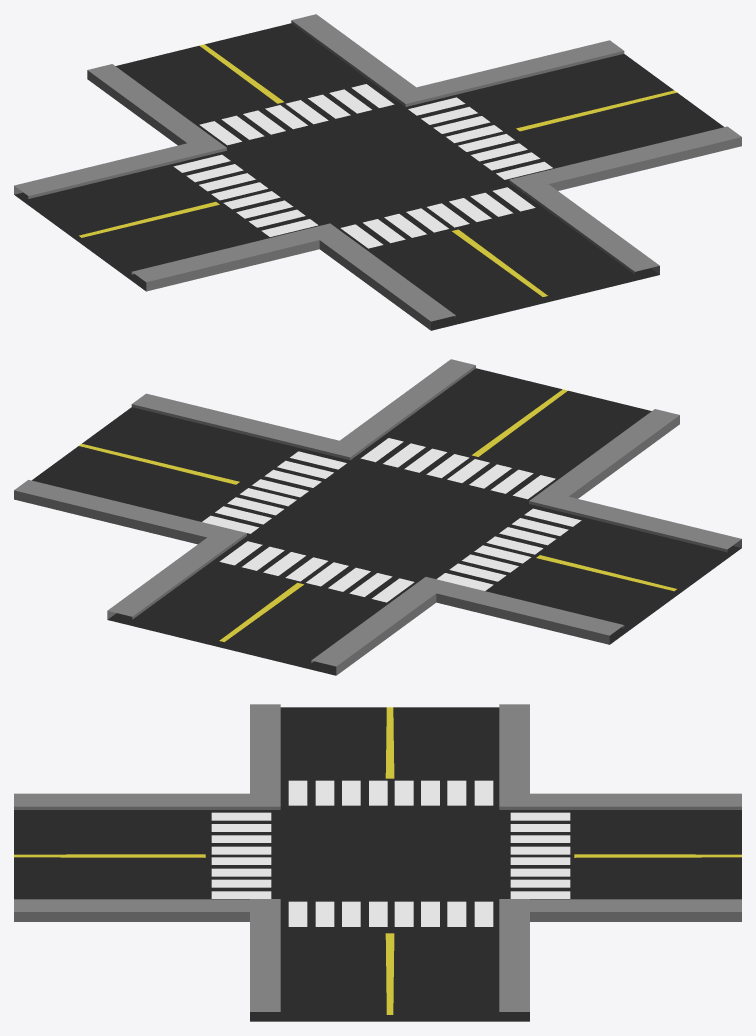
File: road4.fbx
3 views of the same model, one above another, from view 1: azimuth 30°, elevation 25°; view 2: azimuth 150°, elevation 25°; view 3: azimuth 270°, elevation 25° (orthographic). The views are drawn at different scales.
Parts seen in each view (by area): view 1: Roads.003; view 2: Roads.003; view 3: Roads.003.
Boxes of the visible parts, x1,y1,x2,y2 form: Roads.003: (14, 14, 741, 330); Roads.003: (14, 359, 741, 675); Roads.003: (14, 704, 741, 1021).
Size of the model in its own units: 3001 by 44.36 by 2999.
